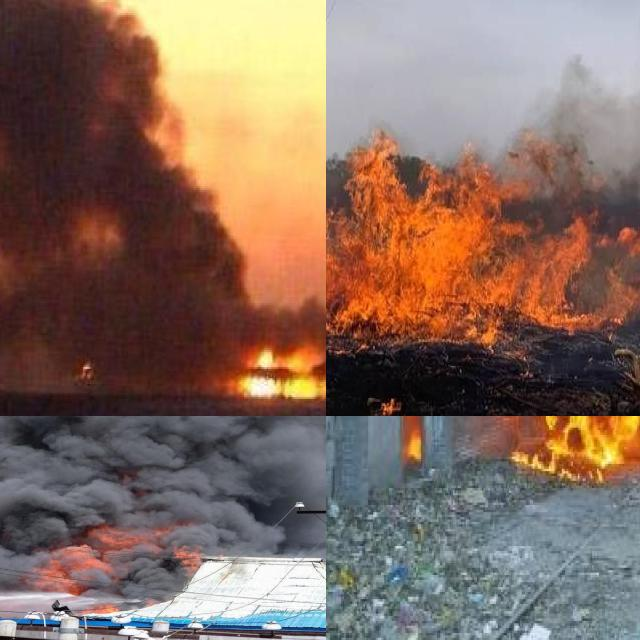fire: (326, 115, 640, 362), (29, 525, 197, 603), (509, 416, 640, 478), (229, 341, 326, 401), (400, 416, 424, 456)
smoke: (0, 0, 326, 360), (0, 416, 326, 588)
